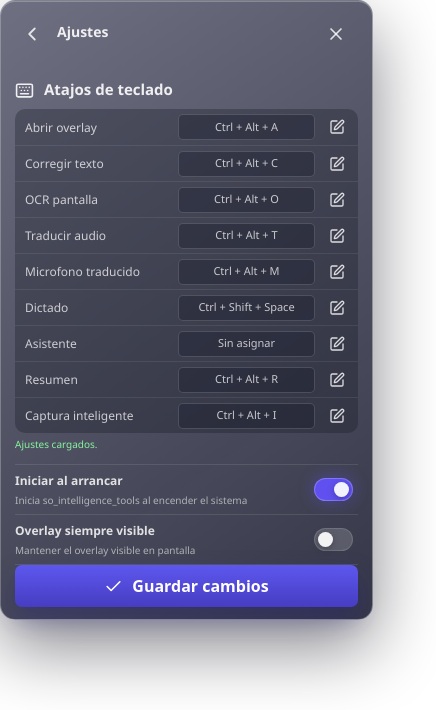
it: Overlay launcher UI › blocks duplicate shortcut assignments before saving
The image size is (436, 710).
Click the button named "Editar atajo" next to "Ctrl + Alt + C": point(335, 164) x1=323 y1=152 x2=347 y2=176
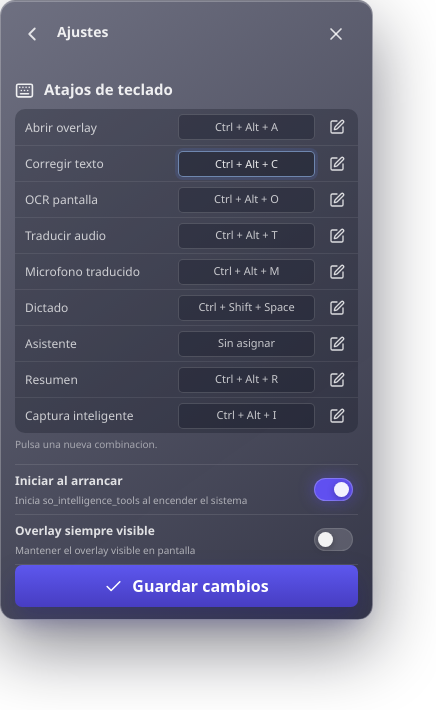
Replace the text in the field with class "shortcut-input" with "Ctrl + Alt + A": point(246, 164) x1=178 y1=150 x2=315 y2=176
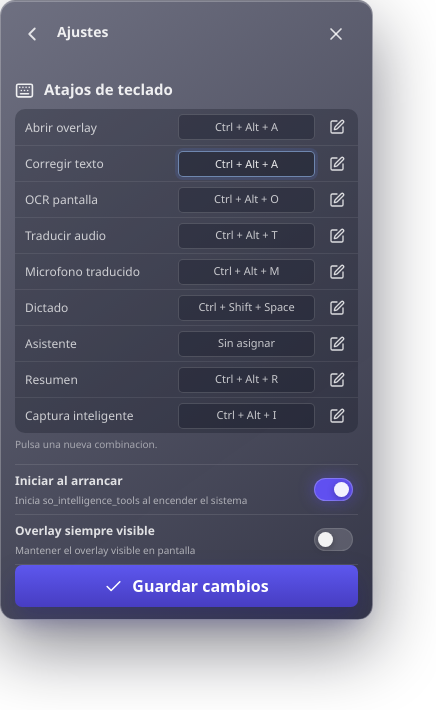
Click the button with class "save-settings": point(186, 586) x1=15 y1=565 x2=358 y2=607
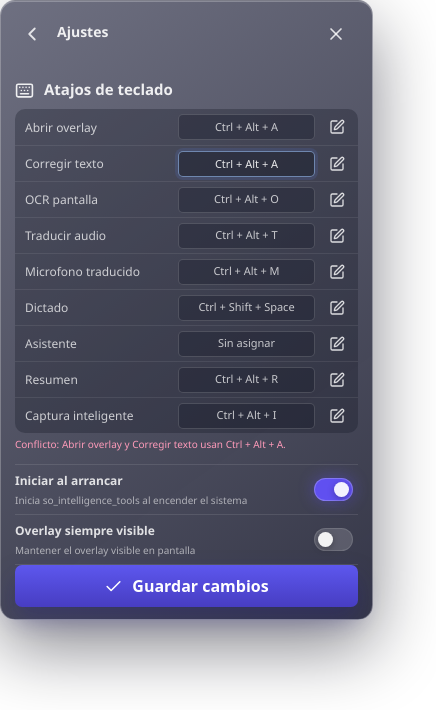
Check: the text "Conflicto:" is shown, box x1=15 y1=437 x2=286 y2=451
